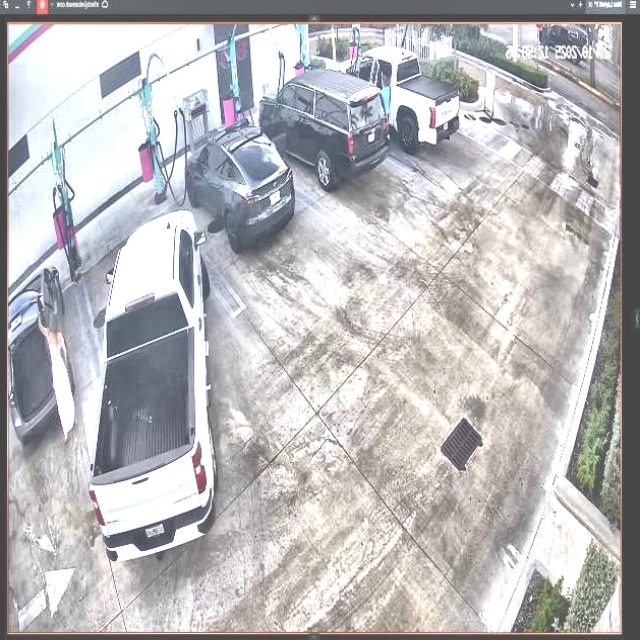Car: (89, 209, 216, 565), (260, 70, 387, 183), (185, 124, 294, 248)
